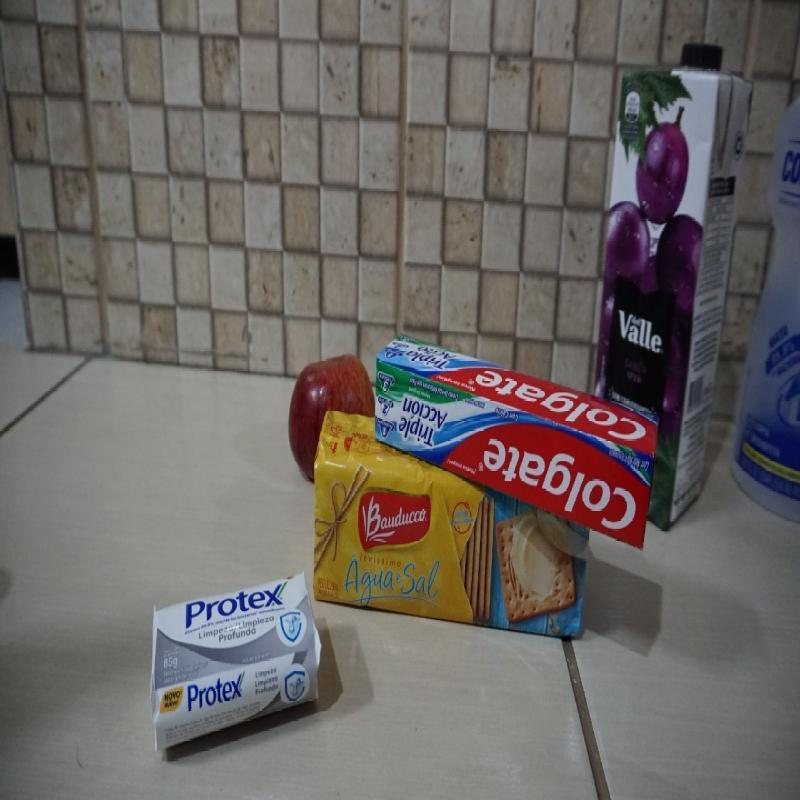Alcohol Bottle: (732, 78, 800, 532)
Apple: (289, 353, 374, 481)
Cracker: (313, 408, 592, 646)
Soap: (153, 568, 322, 757)
Toothpaste: (376, 333, 660, 549)
